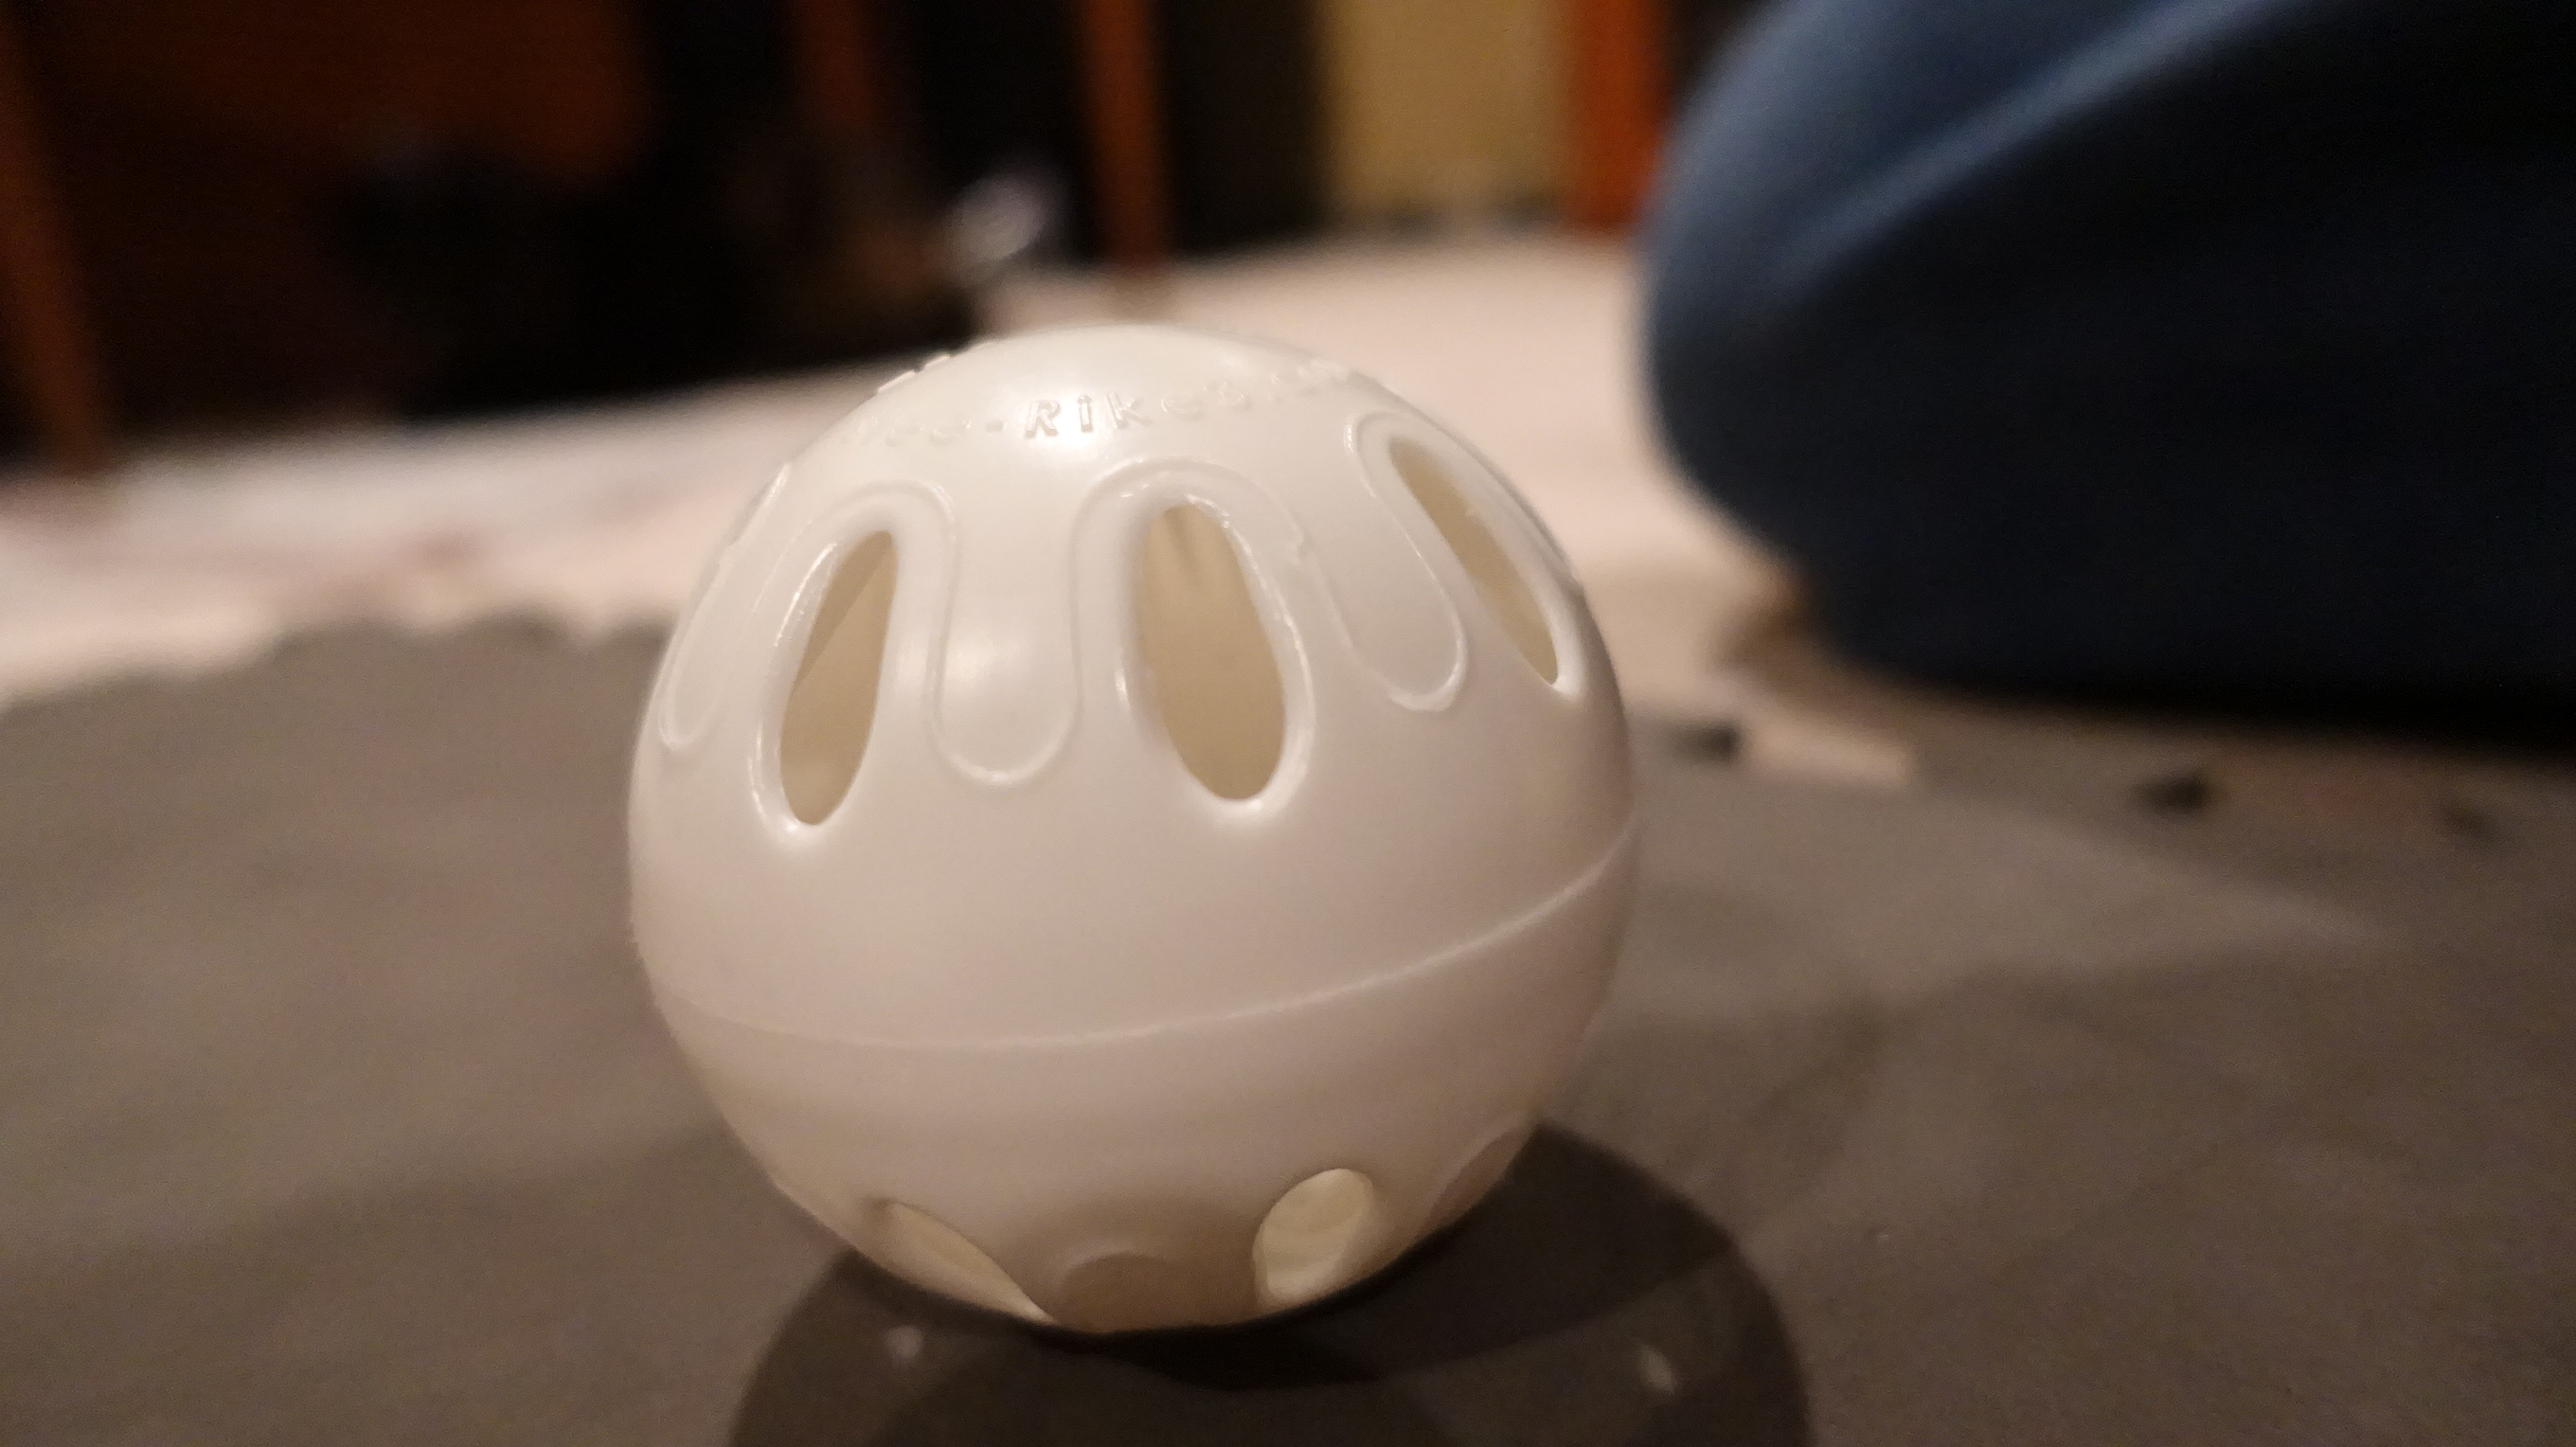silver: (614, 310, 1665, 1348)
